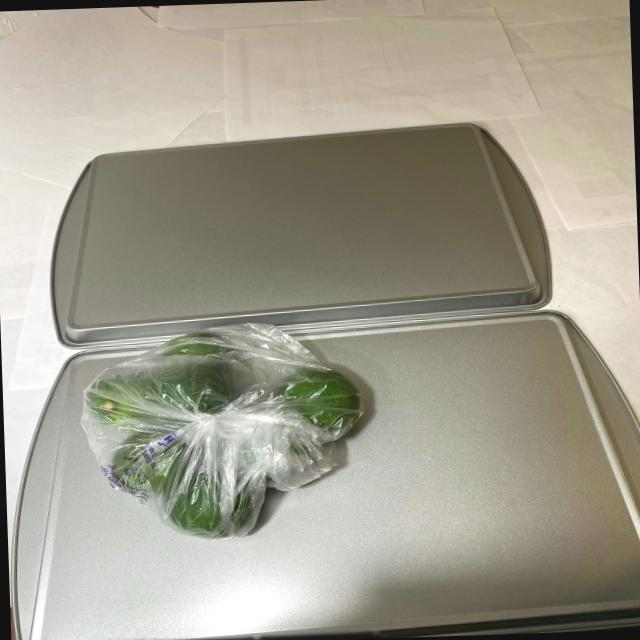lemon: (87, 332, 366, 540)
